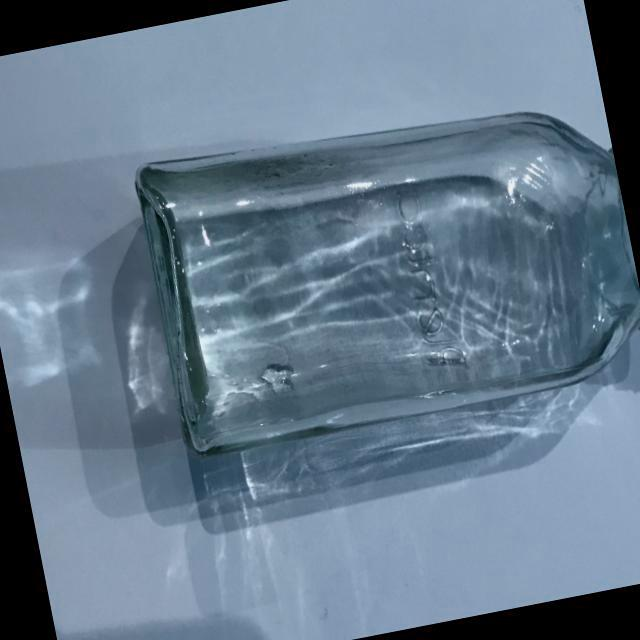glass: (88, 60, 640, 539)
